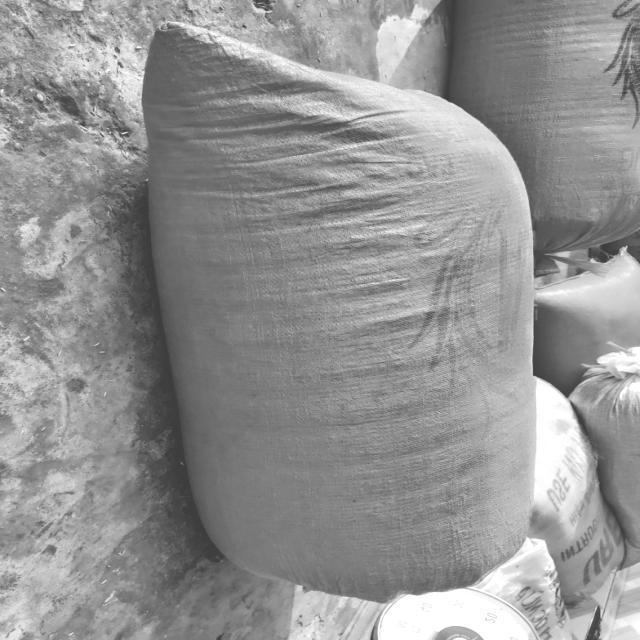gunny_bag: (142, 22, 536, 602)
